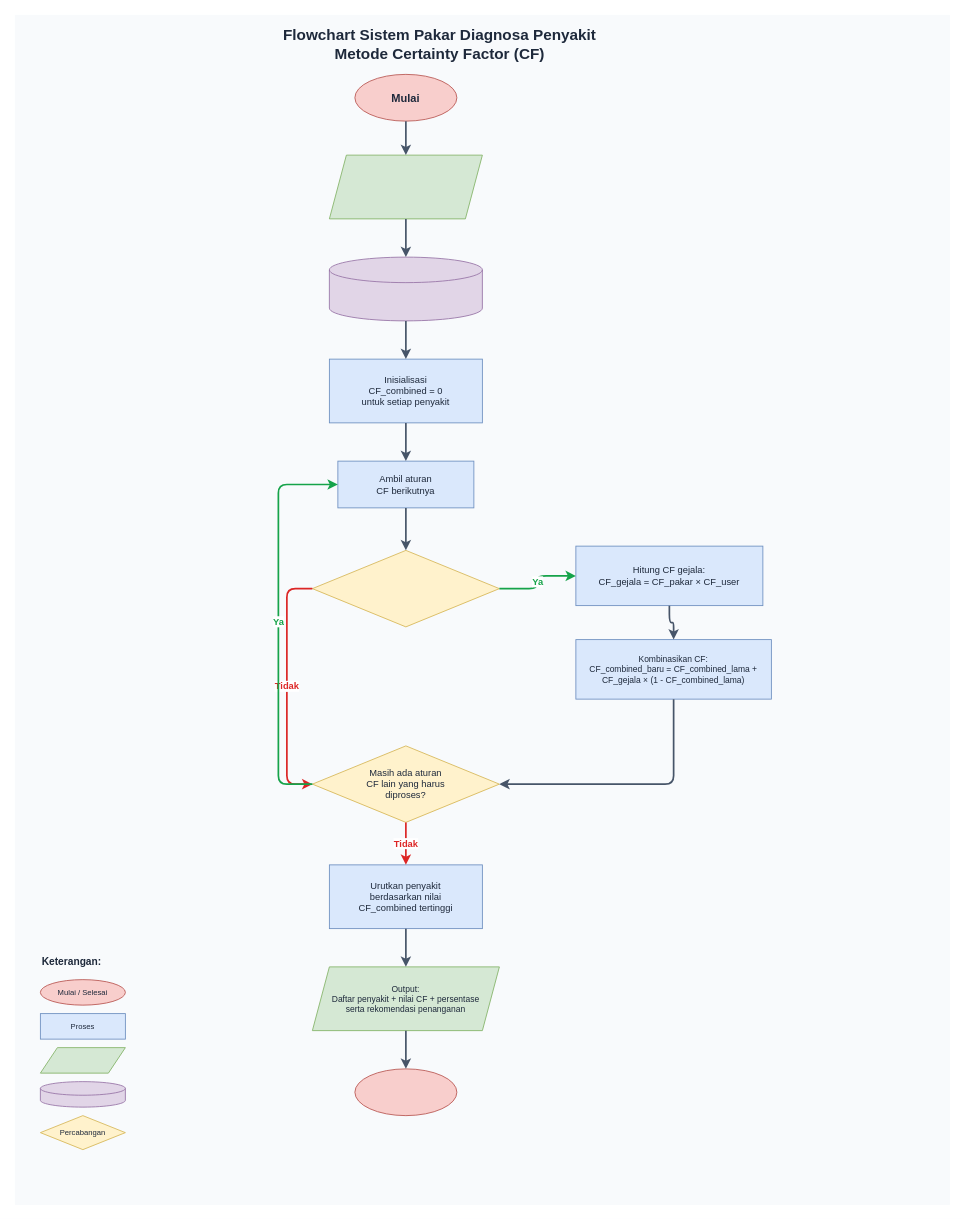
Image size: 964x1219. Some labels were removed from this diagram. Here are the shapes that lost their labels. From the top down, the box of each, then its label:
(329, 154, 482, 219): Input: - Gejala yang dipilih user - Nilai keyakinan user (CF User)
(329, 256, 482, 321): Ambil semua data aturan CF dari database
(312, 550, 499, 627): Apakah gejala pada aturan ini dipilih oleh user?
(40, 1047, 125, 1073): Input / Output
(40, 1081, 125, 1107): Database
(354, 1068, 457, 1116): Selesai
